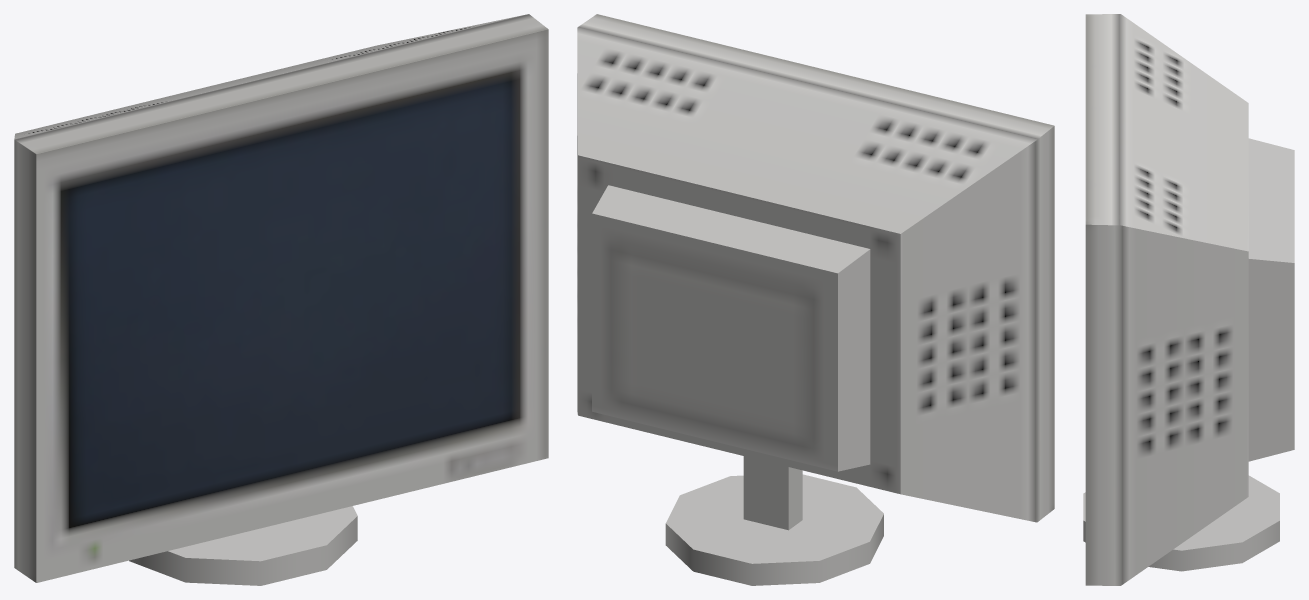
Rendered from Computer_1.fbx.
3 views of the same model, side by side, from view 1: azimuth 30°, elevation 25°; view 2: azimuth 150°, elevation 25°; view 3: azimuth 270°, elevation 25° (orthographic). The views are drawn at different scales.
Visible parts, largest first — view 1: polySurface1520; view 2: polySurface1520; view 3: polySurface1520.
Part boxes in pixels (x1,y1,x2,y2): polySurface1520: (14, 14, 548, 585); polySurface1520: (577, 14, 1054, 585); polySurface1520: (1083, 14, 1294, 585).
Bounding box in the file's own units: 0.6532 × 0.5882 × 0.2757.
